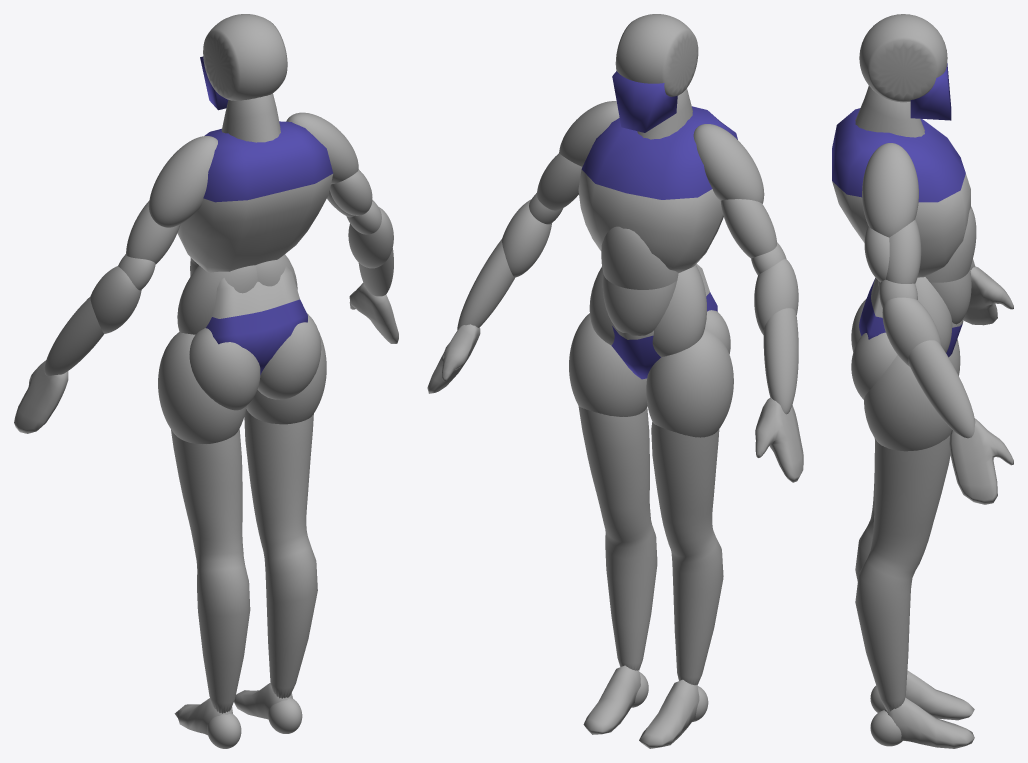
File: person base.fbx
3 views of the same model, side by side, from view 1: azimuth 30°, elevation 25°; view 2: azimuth 150°, elevation 25°; view 3: azimuth 270°, elevation 25° (orthographic). The views are drawn at different scales.
Parts seen in each view (by area): view 1: polySurface18; view 2: polySurface18; view 3: polySurface18.
Part boxes in pixels (<box>): polySurface18: <box>14,14,398,748</box>; polySurface18: <box>427,14,803,748</box>; polySurface18: <box>832,14,1013,748</box>.
Bounding box in the file's own units: 86.25 × 157 × 36.39.
